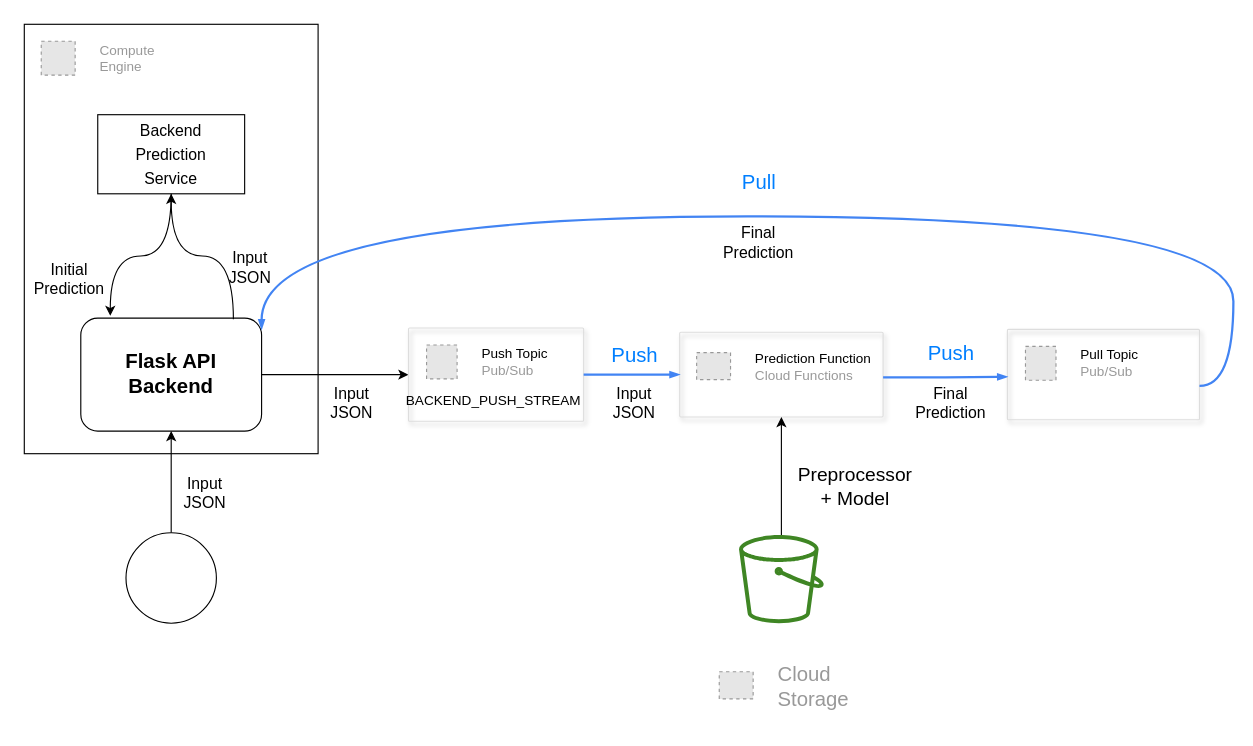
Some shapes in this 1253 by 746 pixel diagram are drawn without their labels. Grey dashed boxes stand in for pictures. The shapes that lost their labels are listed below. From the top down, each one's centre as x and y in pixels, then its label:
At [1104,376]: "BACKEND_PULL_STREAM".
At [170,577]: "User Interface".
